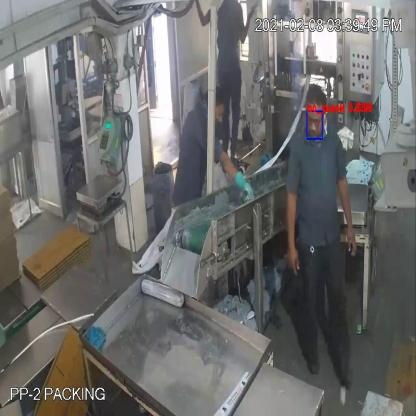glove: (217, 143, 257, 207)
no_glove: (278, 173, 306, 288), (332, 161, 363, 262)
